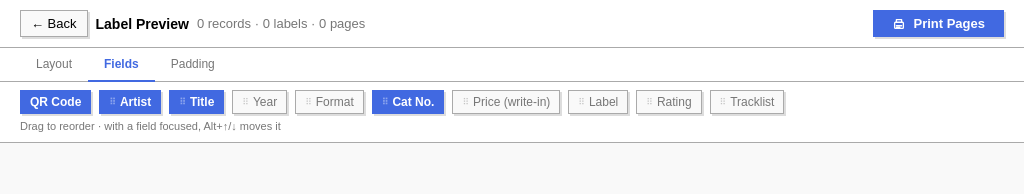
Preview currency prefix › shows price size (without currency prefix) when only write-in price is enabled
The image size is (1024, 194).
Click the button "⠿ Price (write-in)".
click(506, 102)  # box left=452, top=90, right=560, bottom=114
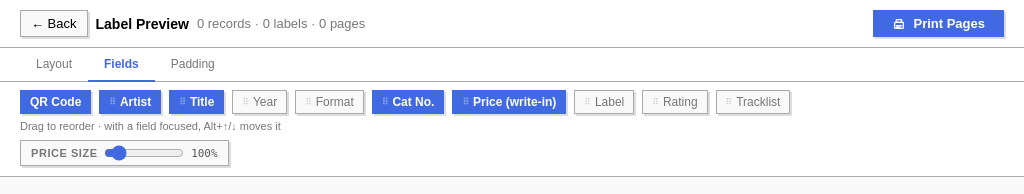
Check: the slider named "Price size" is shown, box left=104, top=145, right=184, bottom=161
